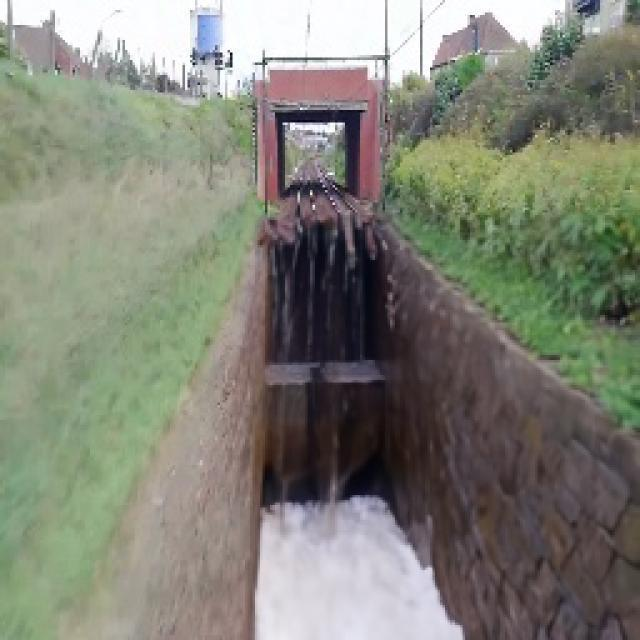rail: (289, 155, 321, 216)
